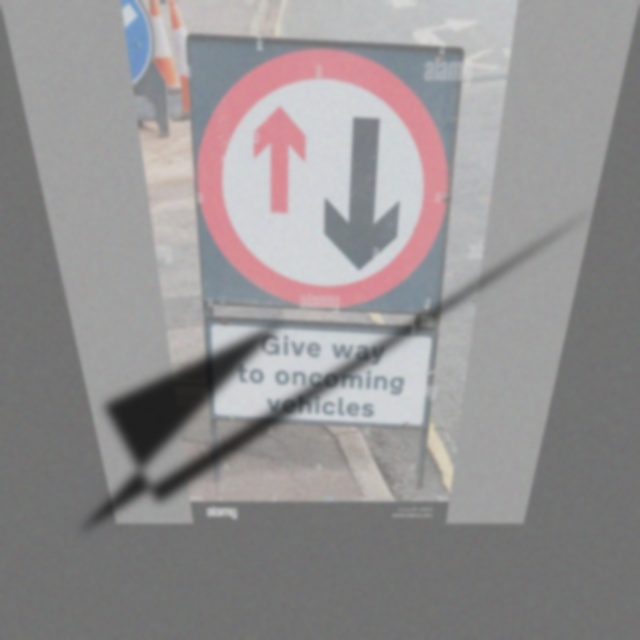Priority_for_Oncoming_Traffic: (185, 47, 466, 308)
